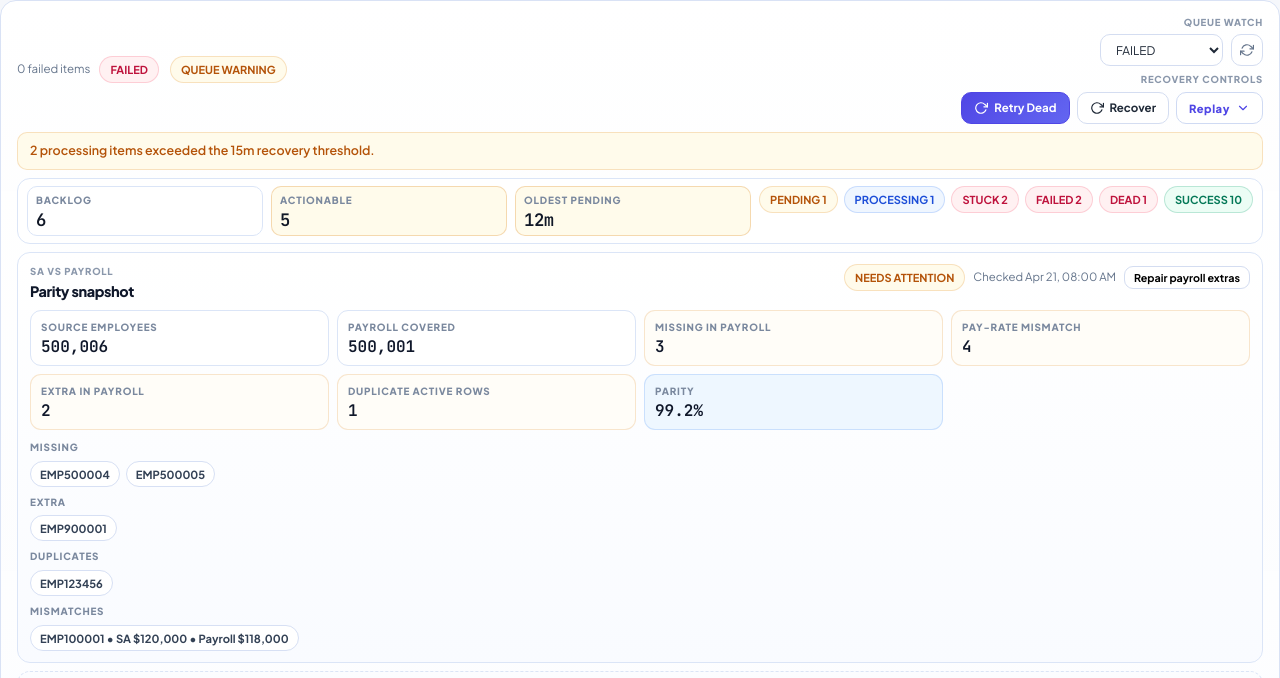
it: IntegrationEventsPanel › recovers stale processing events and refreshes queue state
This screenshot has width=1280, height=678.
Step 1. Click the button with aria-label "Recover stale processing events" → click(1123, 108), box [1076,92,1169,124]
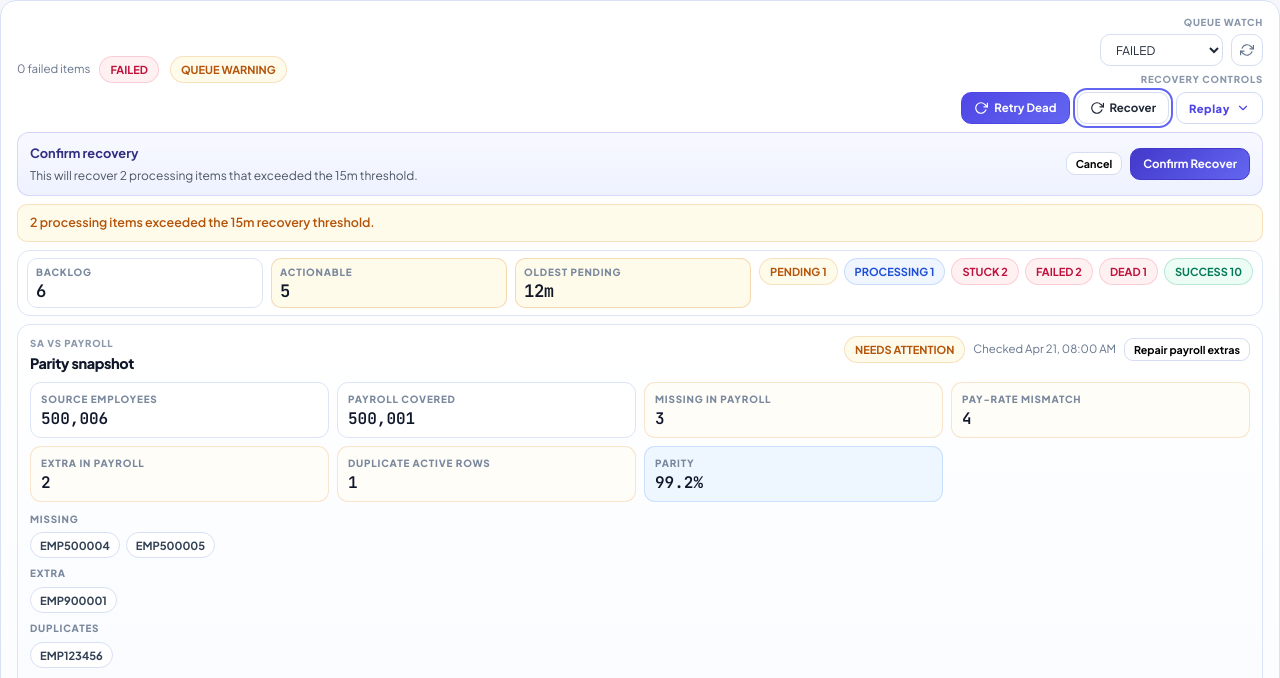
Now the text "Confirm recovery" is shown, box [30,145,138,161]
Step 2. Click the button "Confirm Recover" → click(1190, 164), box [1130,148,1250,180]
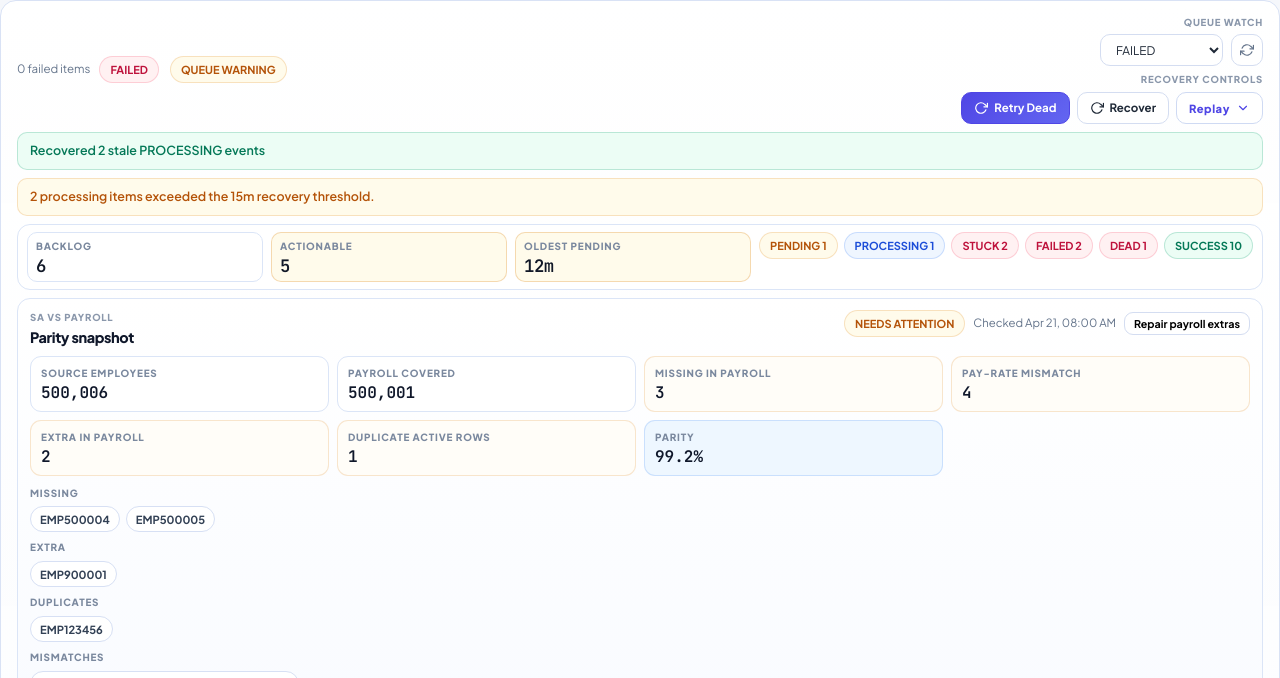
Now the text "Recovered 2 stale PROCESSING events" is shown, box [30,142,265,158]
